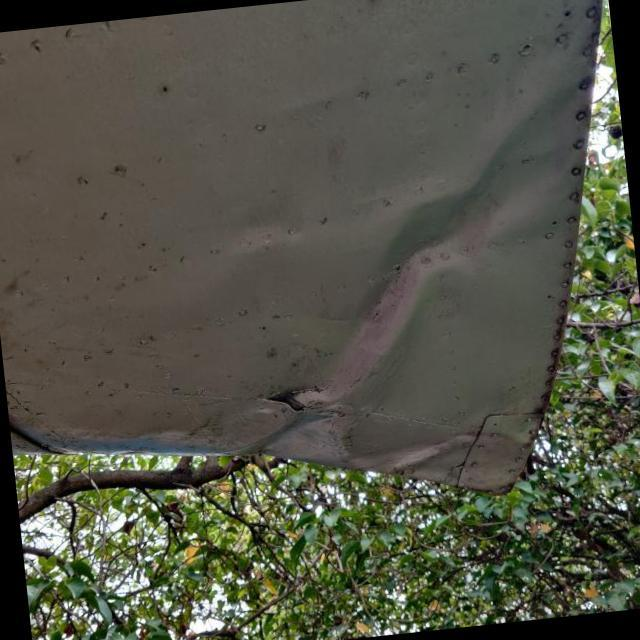Dent: (297, 37, 628, 416)
Rupture: (288, 376, 330, 403)
